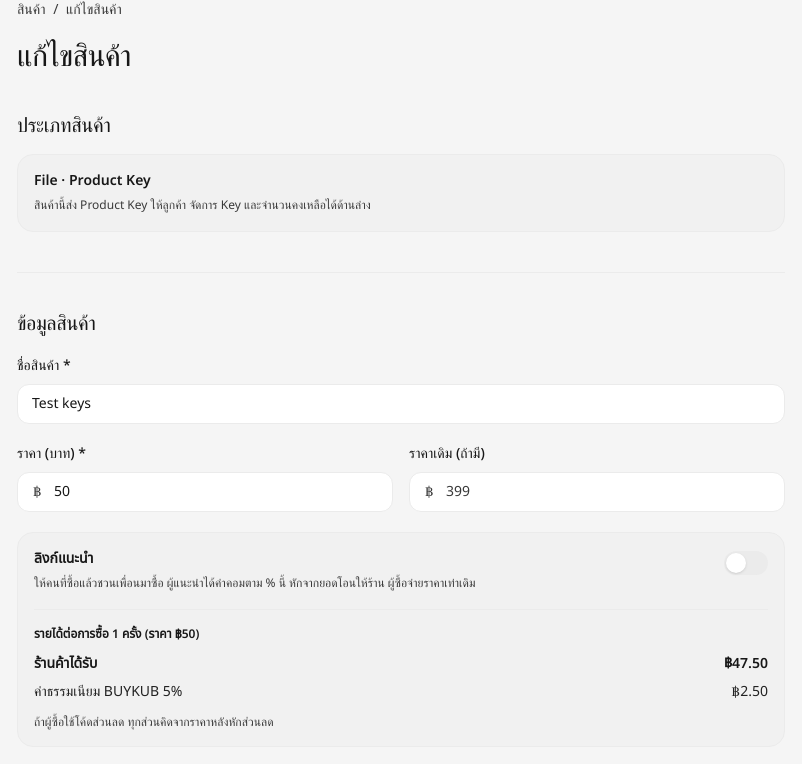
it: refreshes already committed listing edits even when importing keys then fails
Replace the text in the field labelled "ชื่อสินค้า *" with "Edited keys" at (401, 404), box 17,384 -> 785,424
(page scrolled)
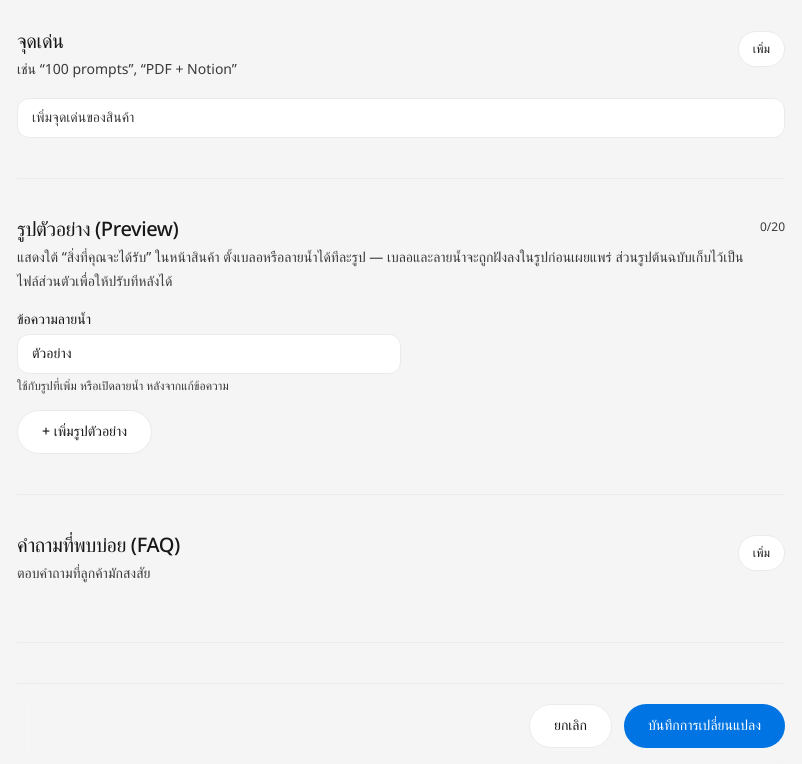
Click the button "บันทึกการเปลี่ยนแปลง" at (704, 726), box 624,704 -> 785,748
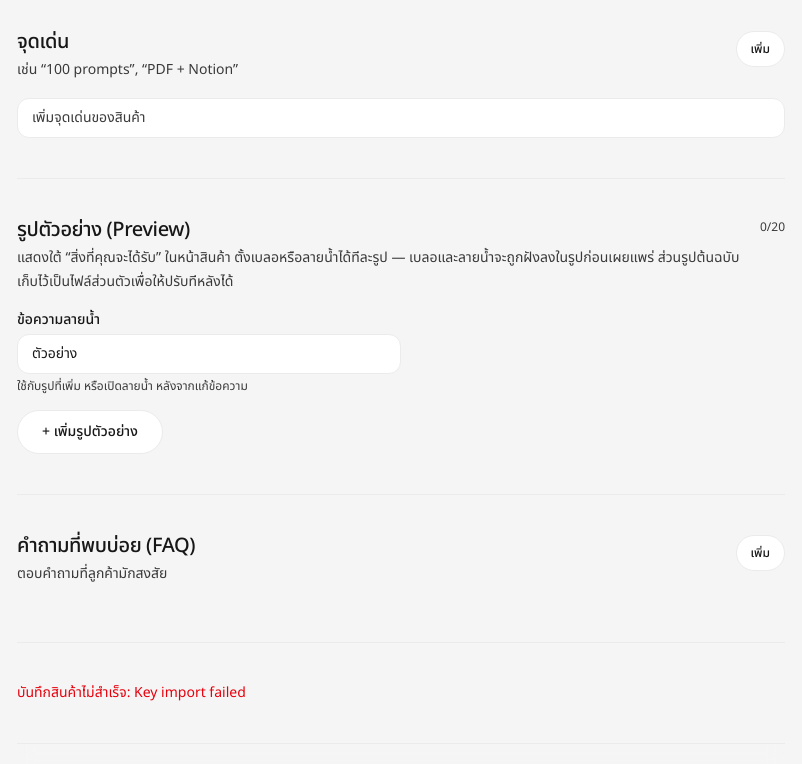
Expected: the text "บันทึกสินค้าไม่สำเร็จ: Key import failed" is shown, 17,682 -> 246,702
